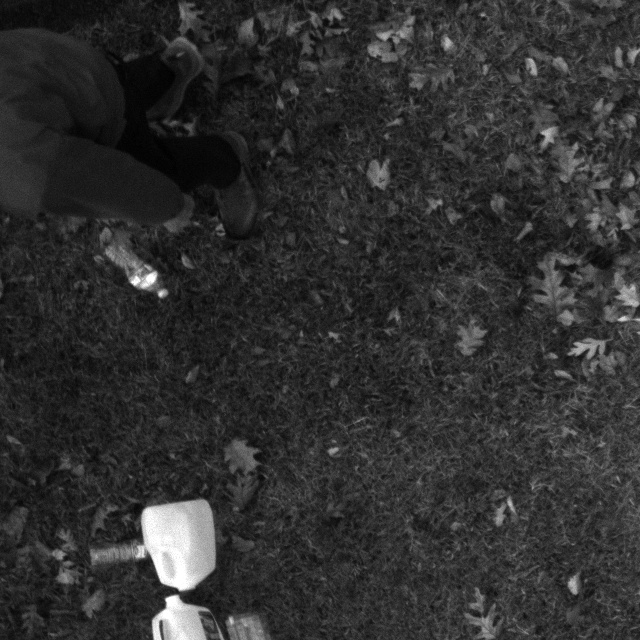bottle: (89, 216, 168, 303), (82, 534, 148, 564)
can: (139, 493, 218, 595)
